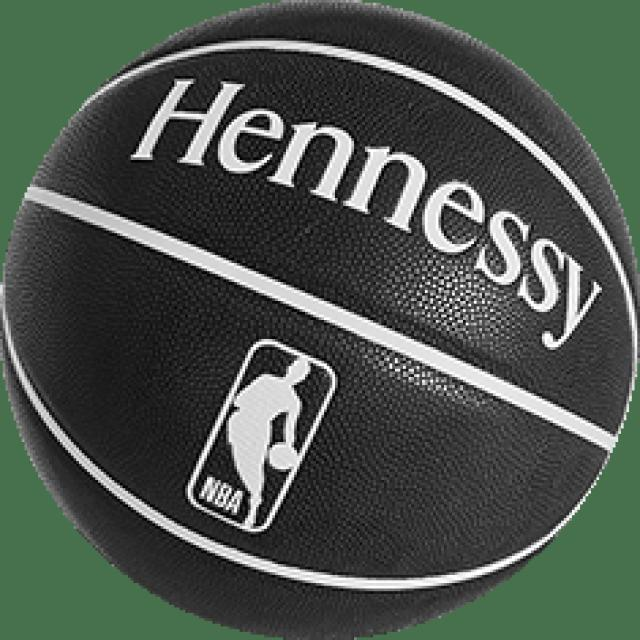Background Image: (0, 0, 637, 637)
Icon: (182, 336, 338, 532)
Text Elements: (19, 176, 621, 453), (125, 70, 605, 350)
